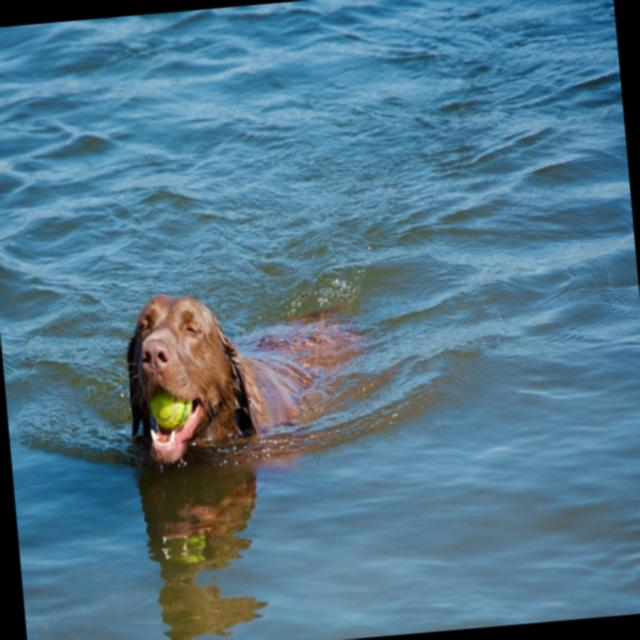Tennis Ball: (150, 390, 192, 429)
